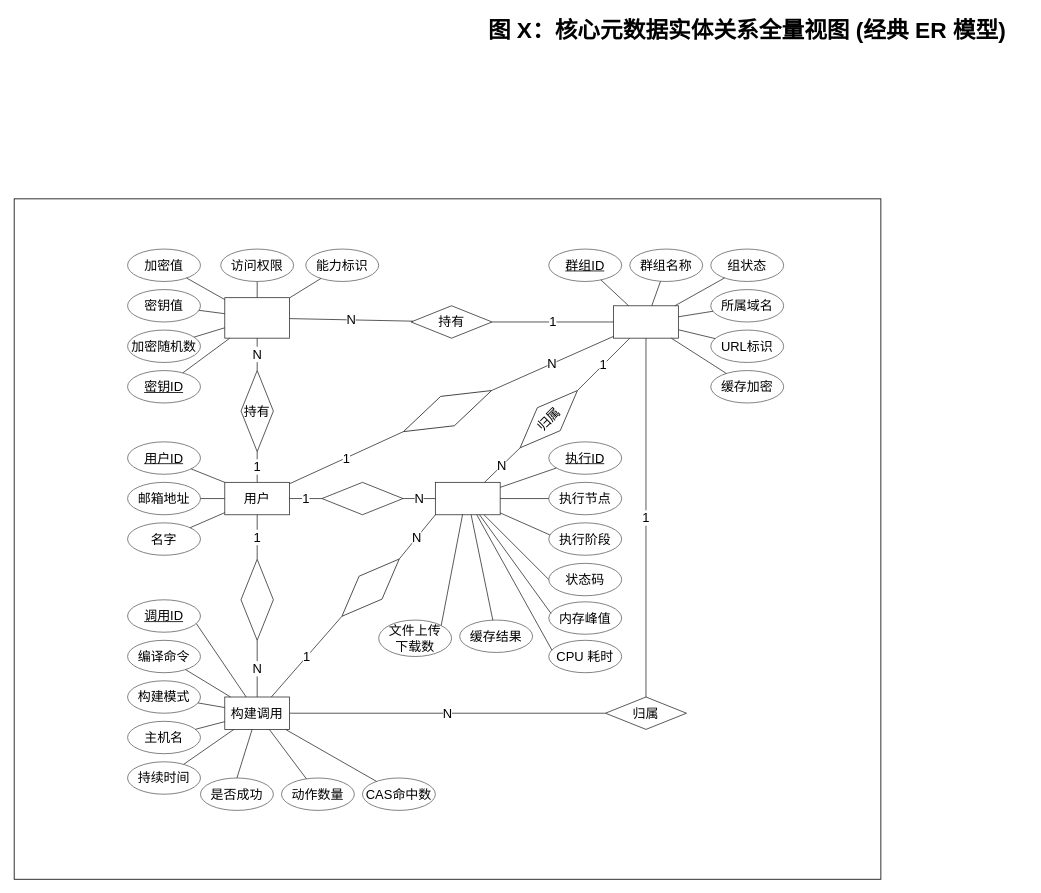
This 1041x893 diagram has some shape labels left out. Here are the shapes that lost their labels. From the top down, the box of each, then its label:
(224, 297, 290, 338): API 密钥
(613, 305, 678, 338): 群组
(396, 375, 499, 446): 拥有
(321, 482, 403, 515): 触发
(435, 482, 500, 515): 执行记录
(240, 558, 273, 640): 发起
(330, 547, 411, 628): 包含
